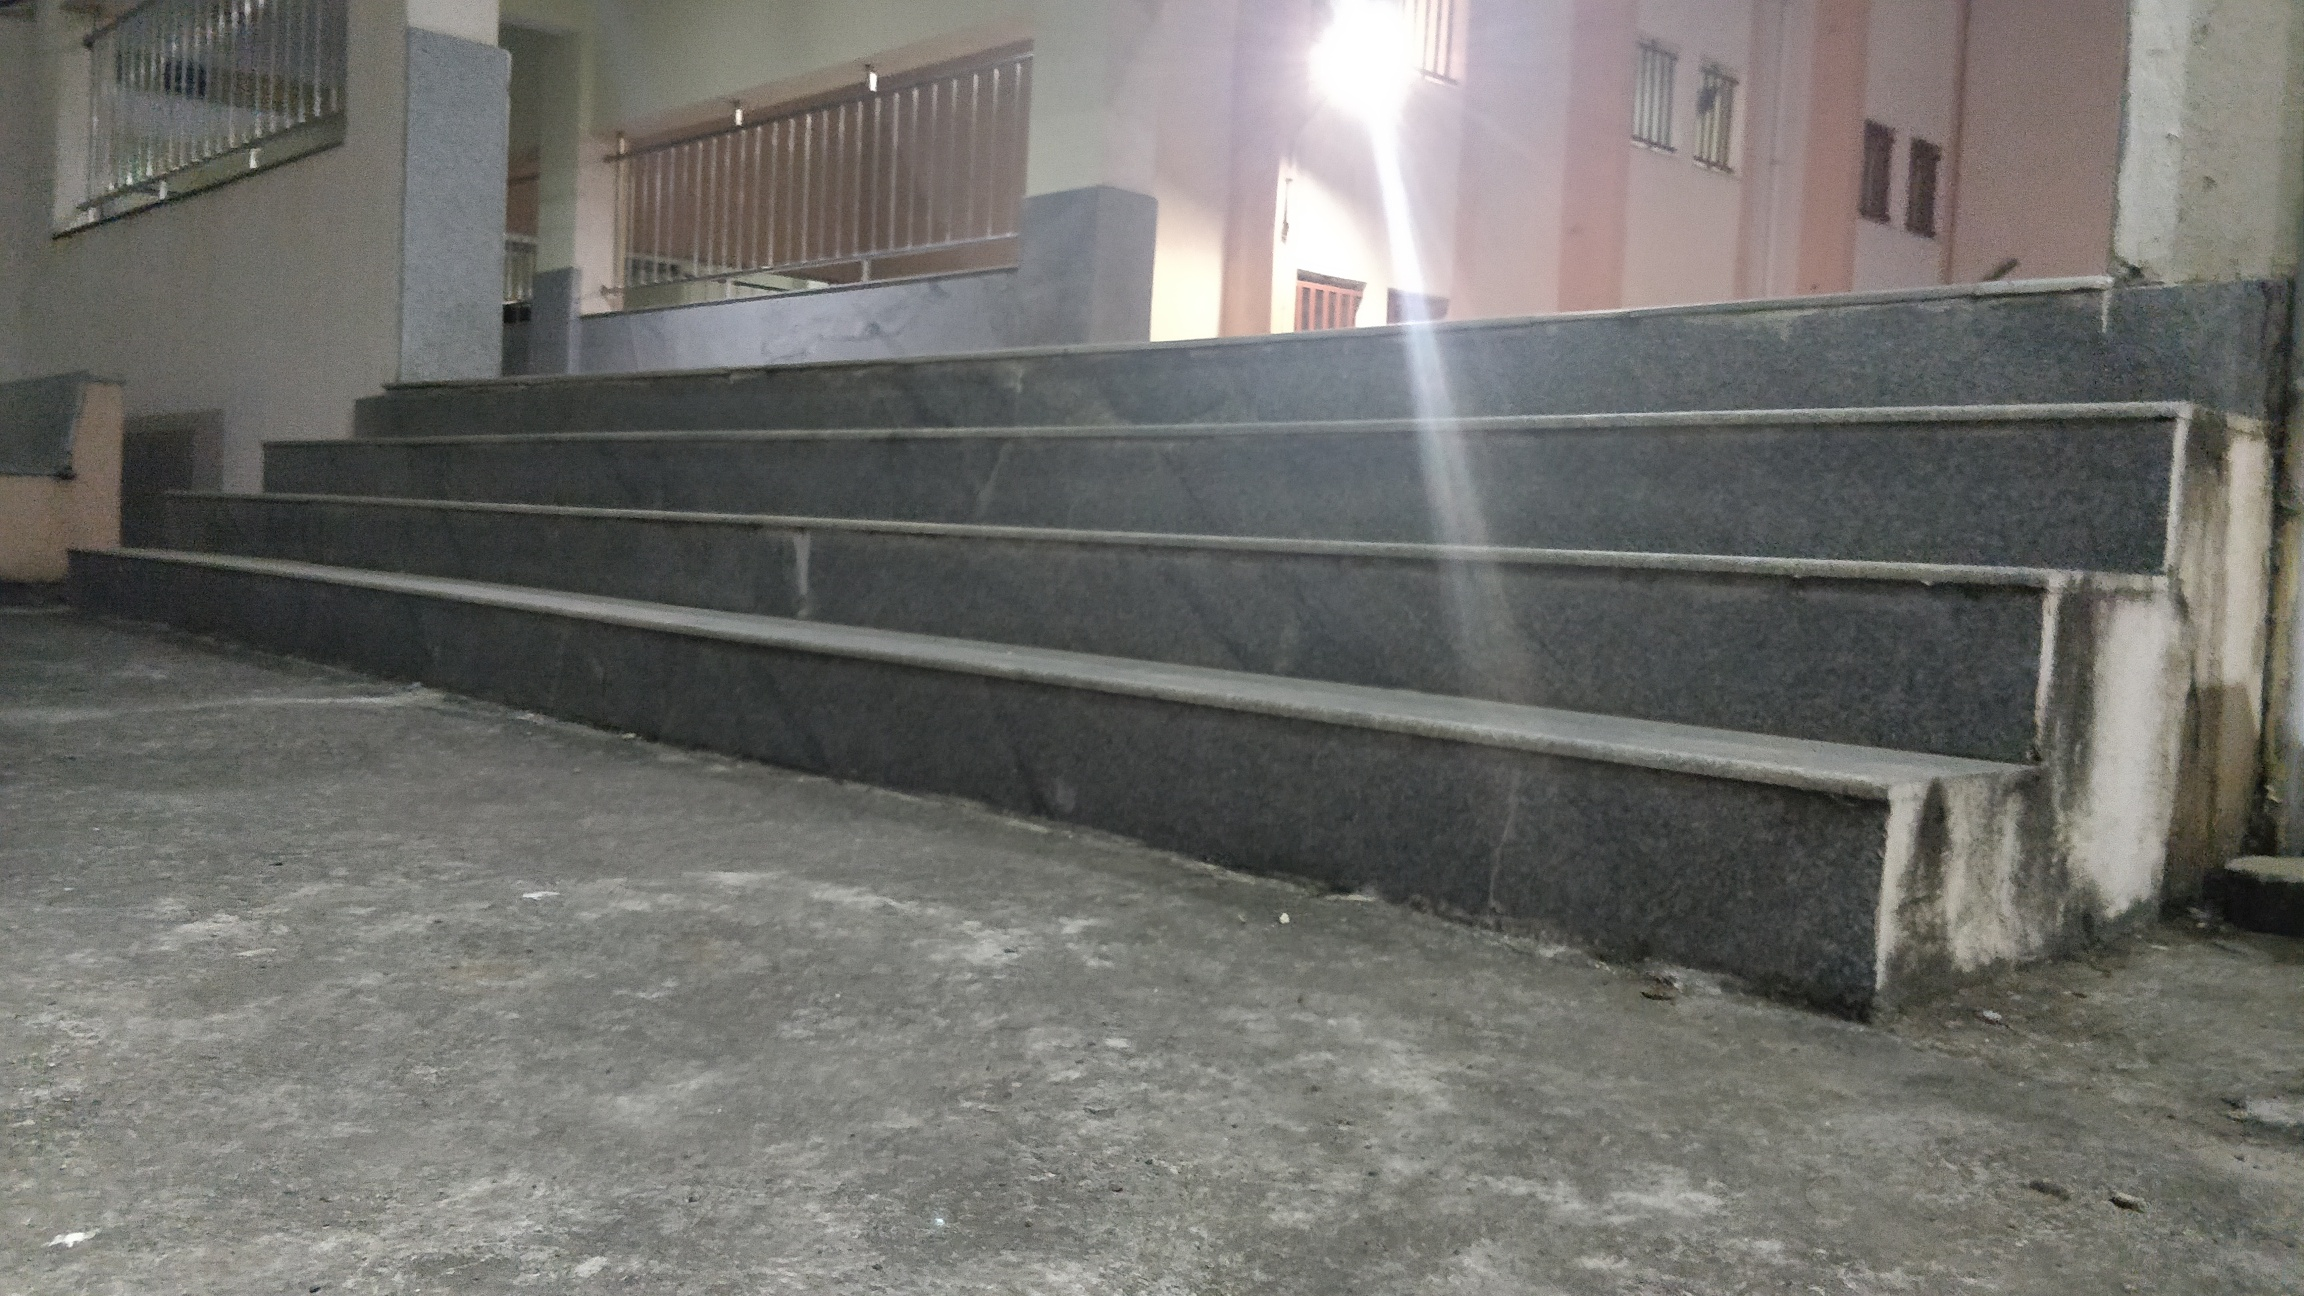stairs_up: (112, 293, 2257, 699)
